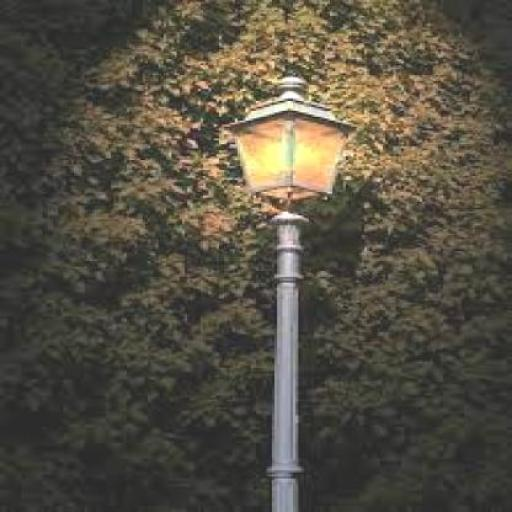street light: (224, 75, 359, 510)
